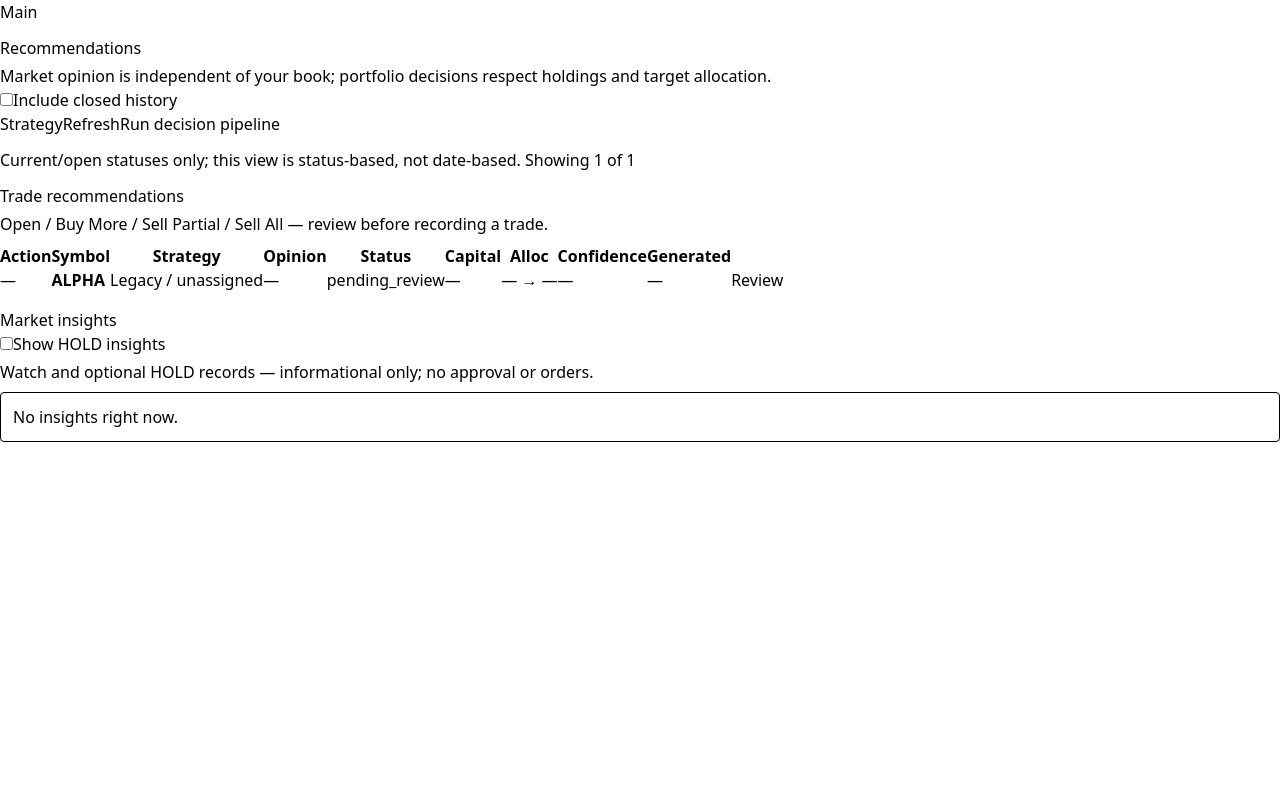
Test case: keeps same-scope review and pipeline payloads and follow-up behavior
Click the button "Review" at (757, 280), box [731,268,783,292]
(page scrolled)
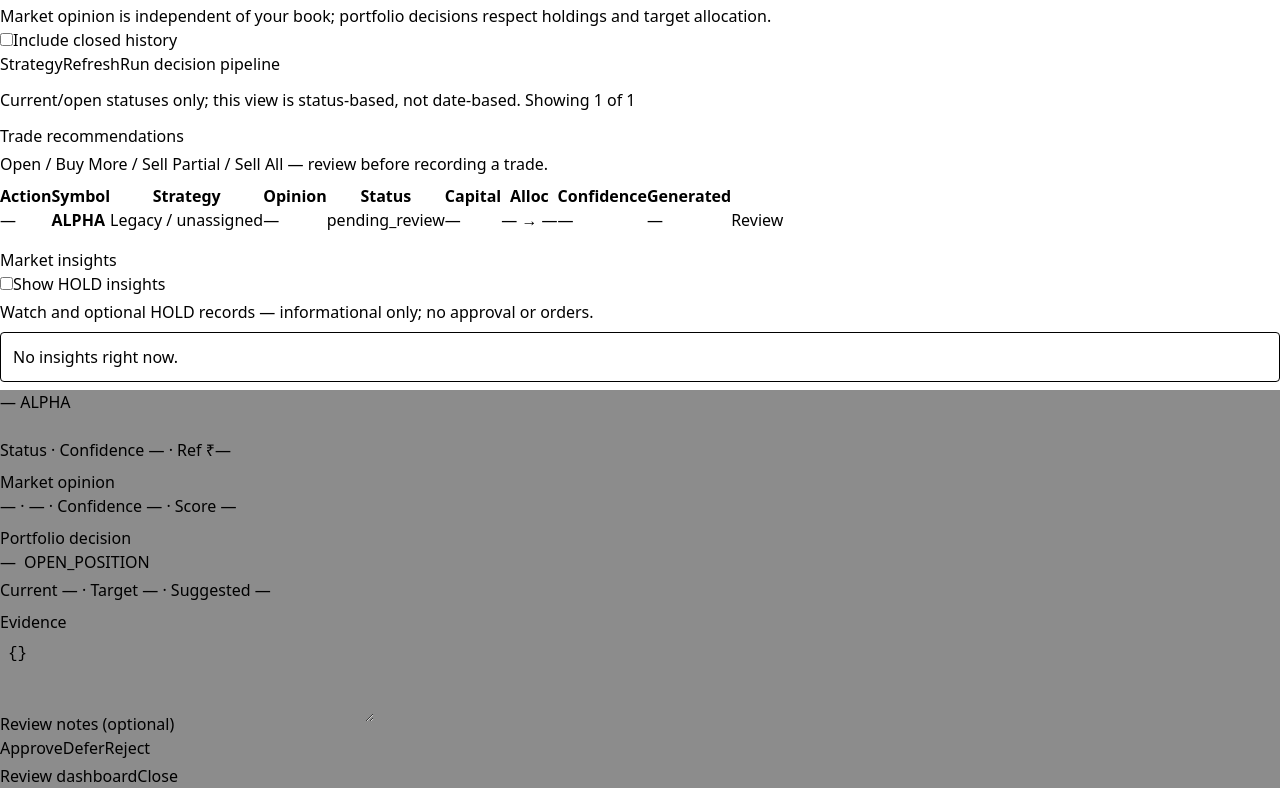
Click the button "Defer" at (84, 748), box [63,736,104,760]
(page scrolled)
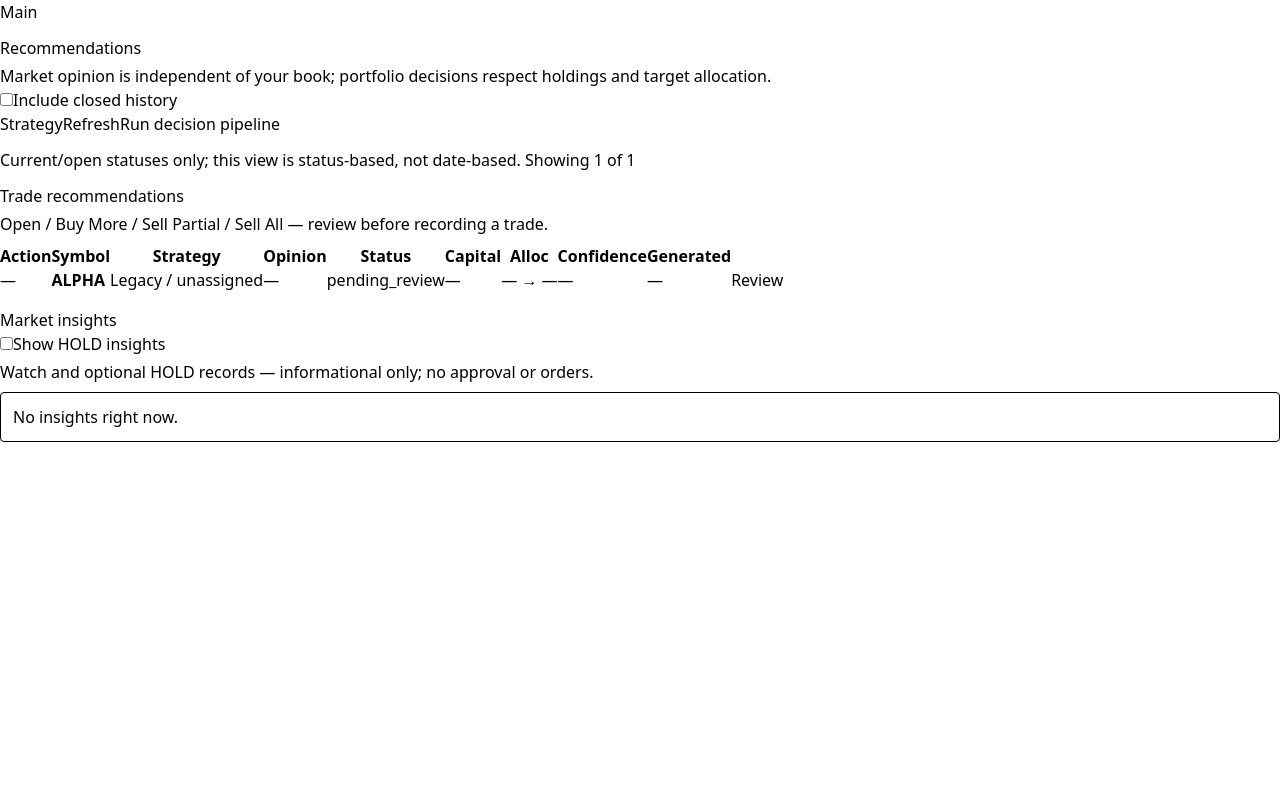
Expected: the dialog is gone
Click the button "Run decision pipeline" at (200, 124), box [120,112,280,136]
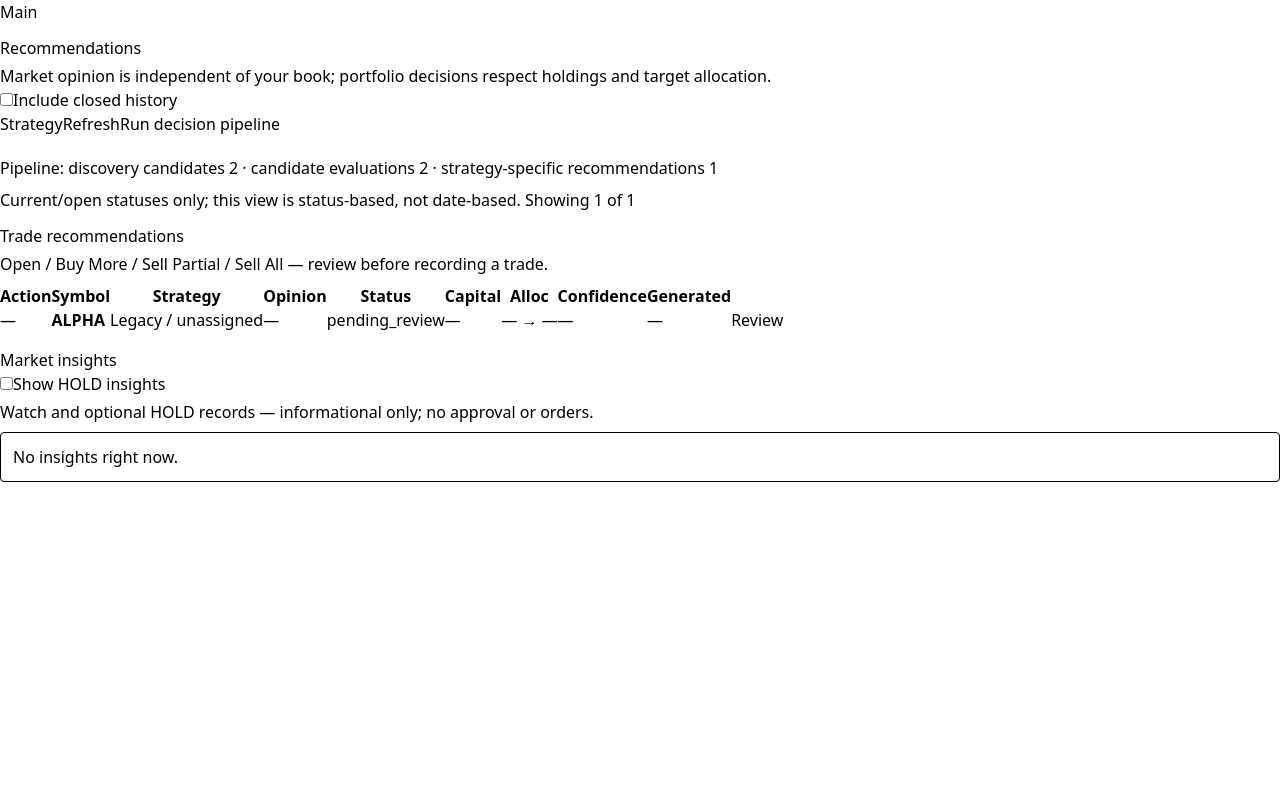
Expected: the text "Pipeline: discovery candidates 2" is shown, [0,157,718,179]
